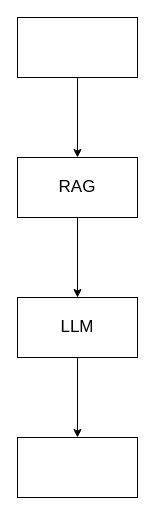
The diagram is 155 pixels wide and 515 high, and some of its shapes have lost their labels. Each missing label, with the box of its shape:
Answer: (16, 436, 138, 498)
User: (16, 16, 138, 78)
